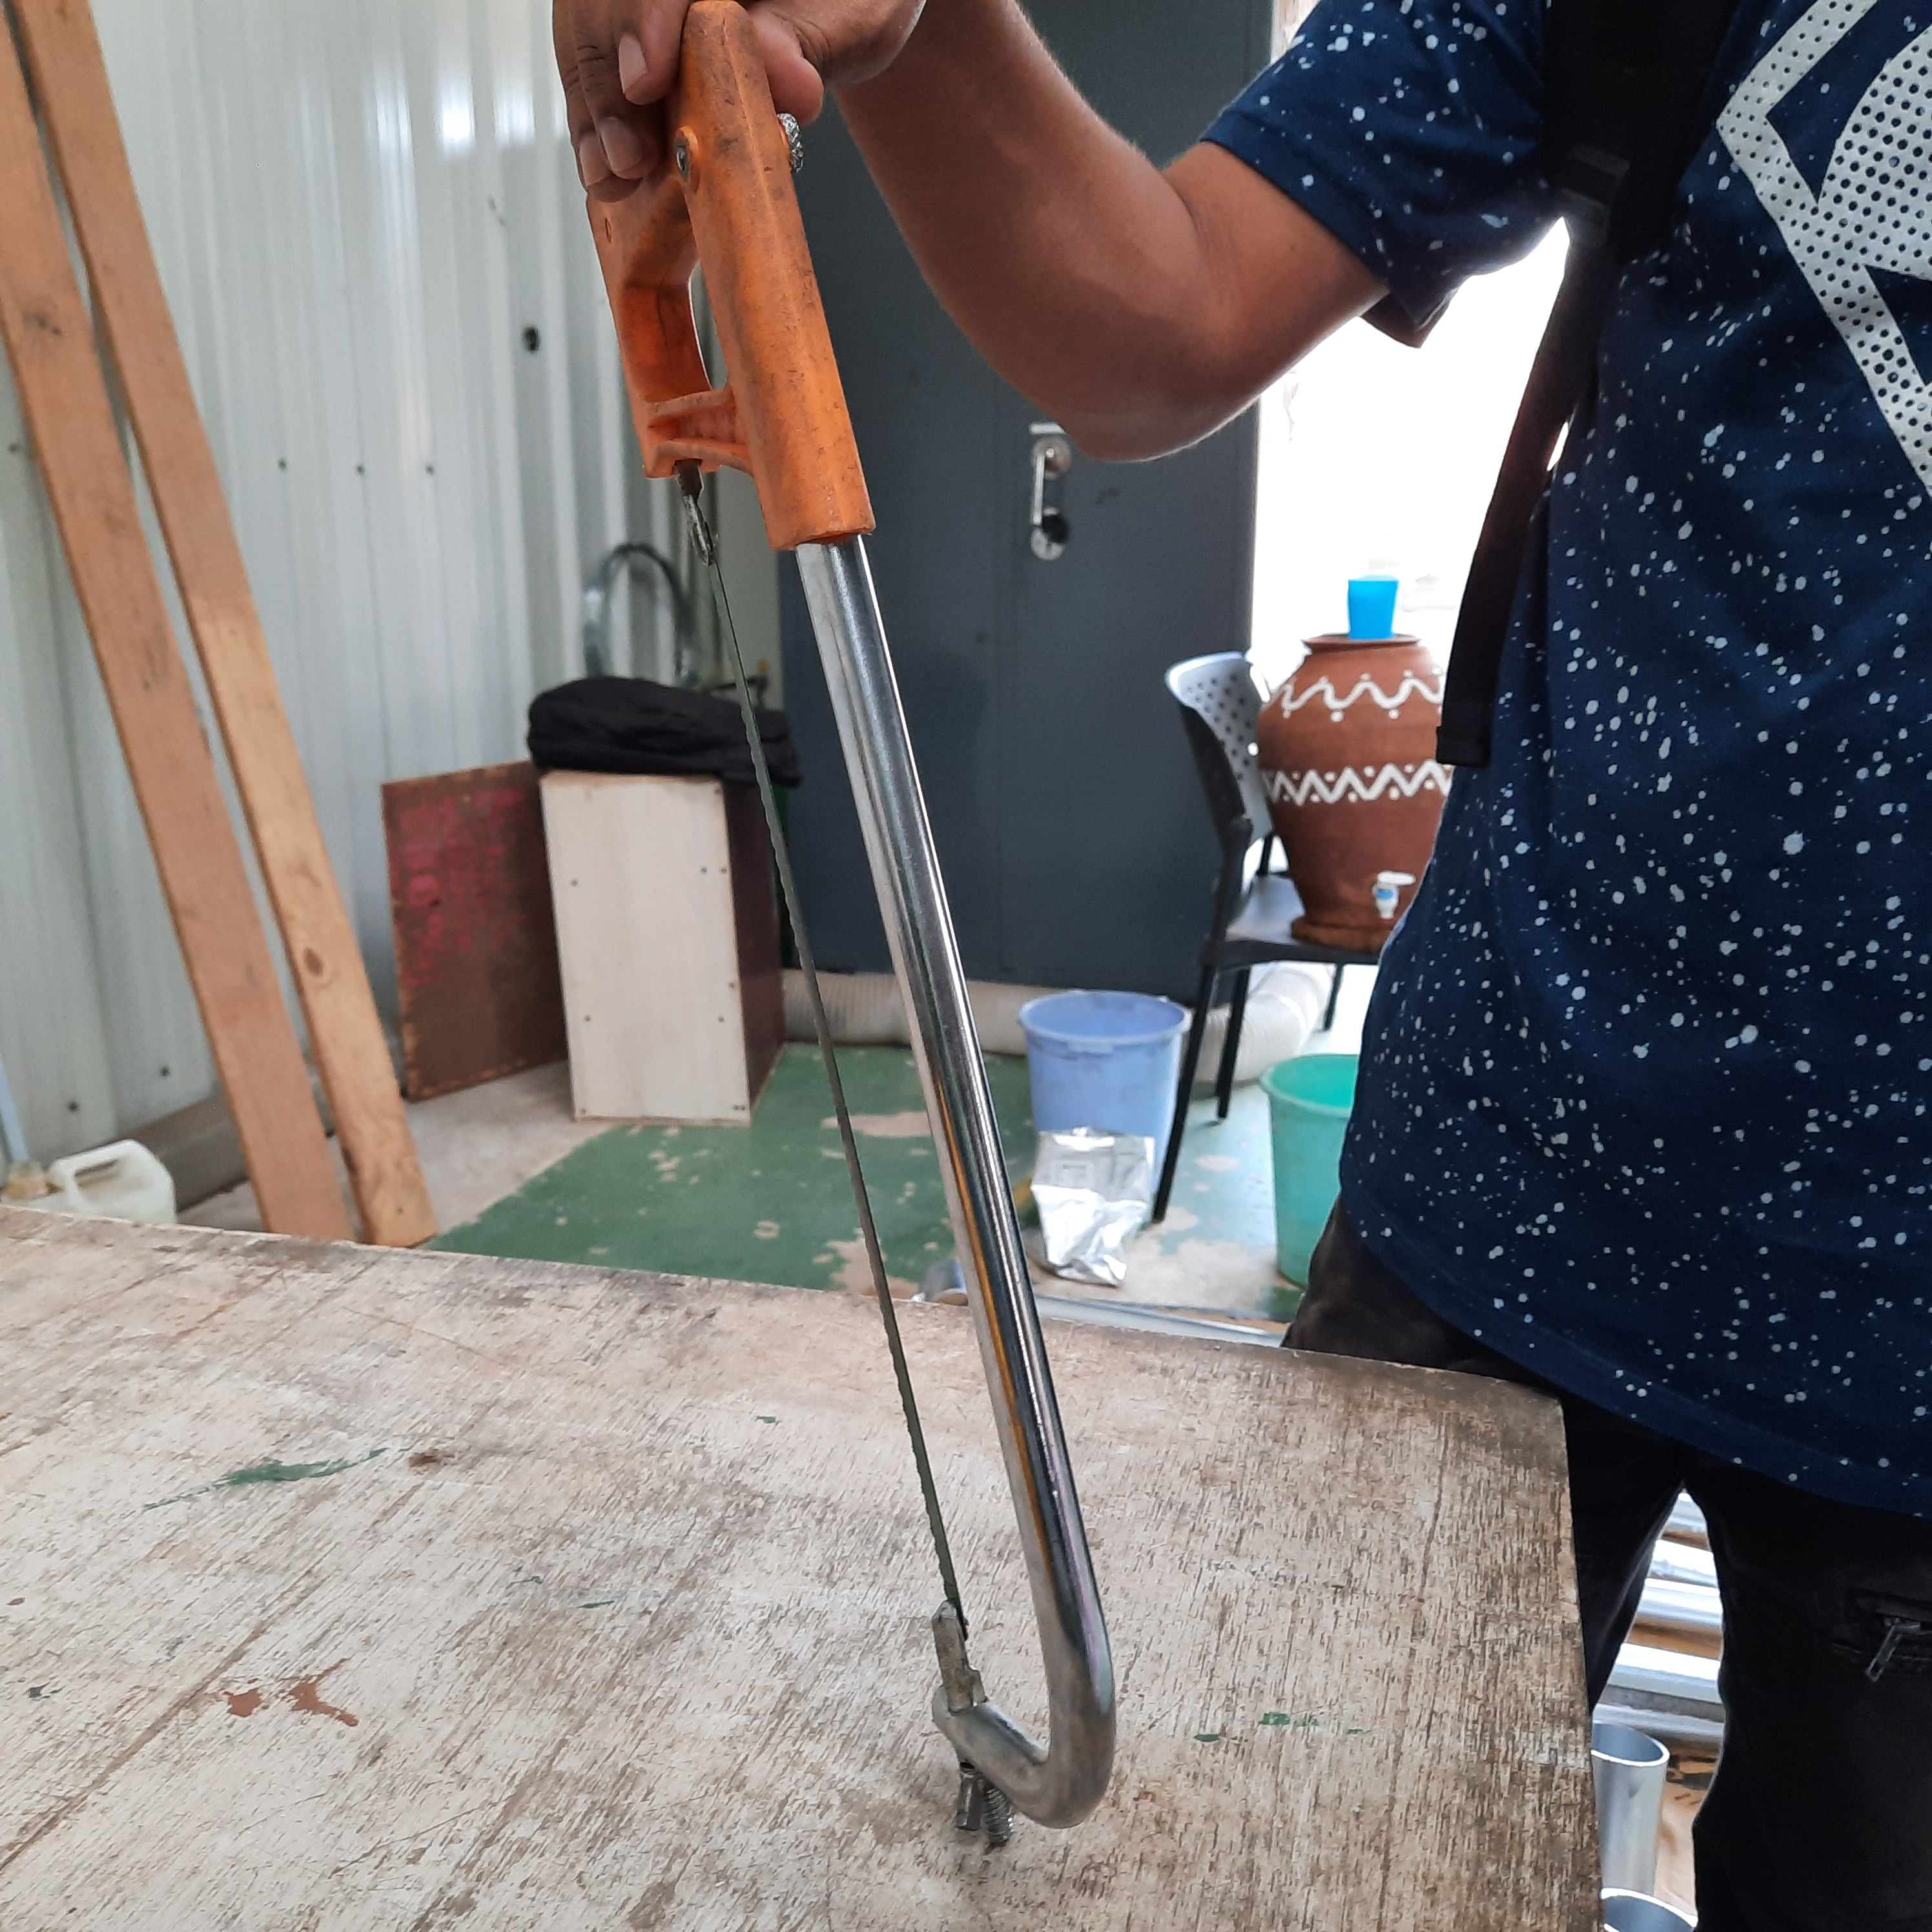Hexaframe: (513, 21, 1219, 1913)
